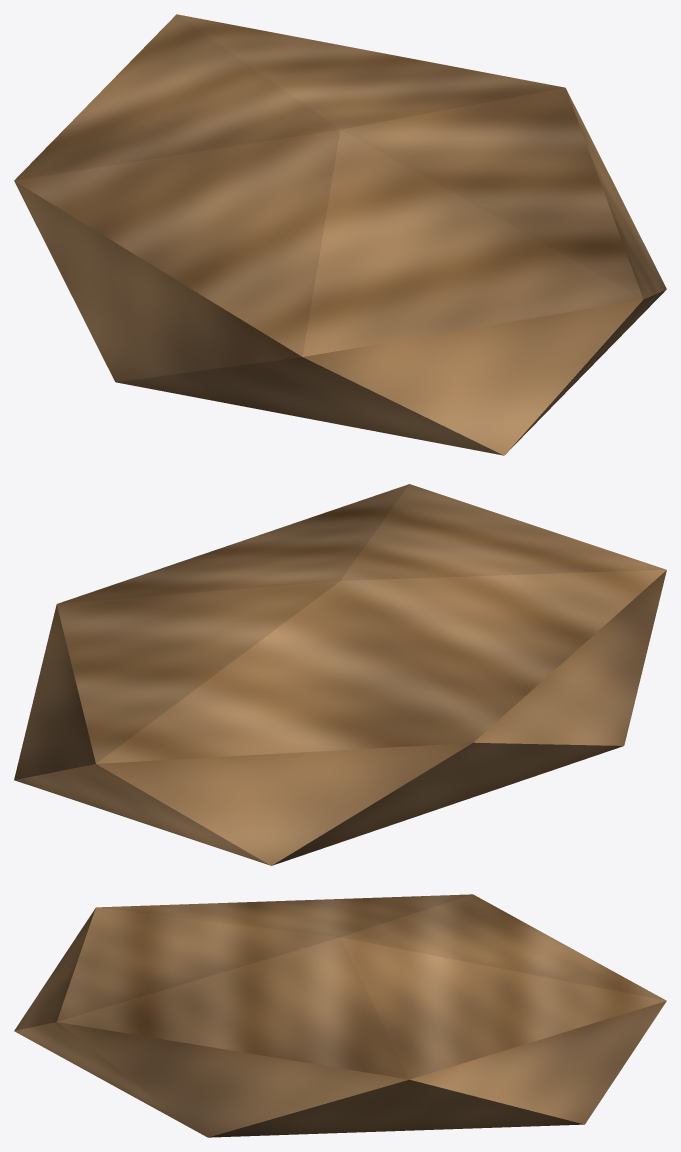
The model's file is 2011_sandstone_talus_06.dae.
The picture shows the model from 3 angles, top to bottom: view 1: azimuth 30°, elevation 25°; view 2: azimuth 150°, elevation 25°; view 3: azimuth 270°, elevation 25°; orthographic projection. The views are drawn at different scales.
Visible parts, largest first — view 1: Node; view 2: Node; view 3: Node.
Part boxes in pixels (x1,y1,x2,y2): Node: (14, 14, 666, 455); Node: (14, 484, 666, 865); Node: (14, 894, 666, 1137).
Size of the model in its own units: 0.7608 by 1.06 by 0.2822.
Materials: 1 (1 with a texture image).
